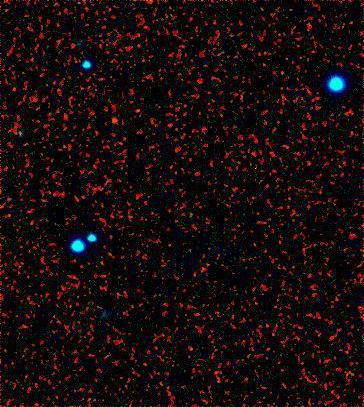star: (99, 101, 129, 131)
